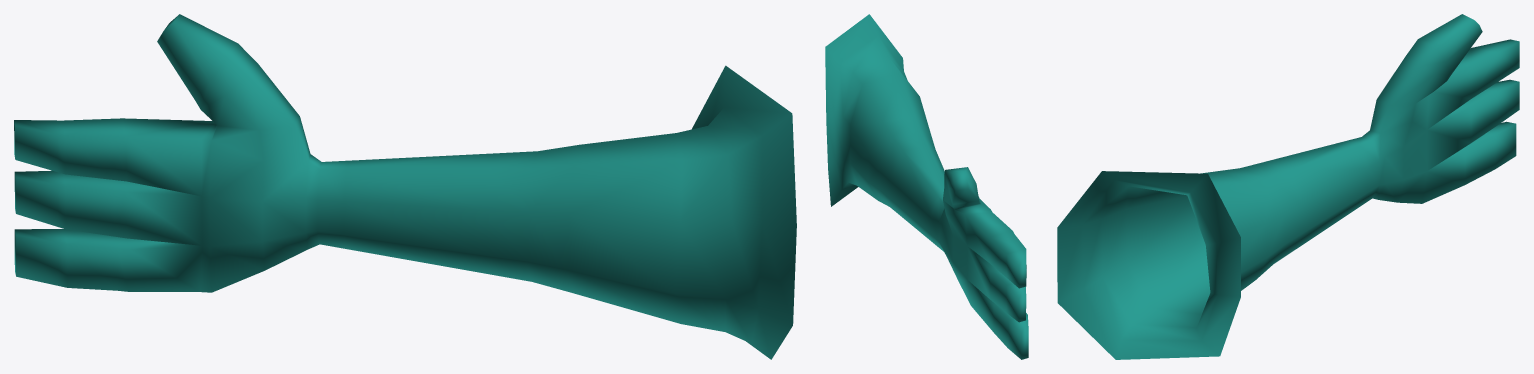
The model's file is PerryManoIzq.obj.
3 views of the same model, side by side, from view 1: azimuth 30°, elevation 25°; view 2: azimuth 150°, elevation 25°; view 3: azimuth 270°, elevation 25° (orthographic). The views are drawn at different scales.
Parts seen in each view (by area): view 1: mmd_edge_scale, 手首.L; view 2: mmd_edge_scale, 手首.L, 親指２.L, 人指３.L, 中指３.L; view 3: mmd_edge_scale, 手首.L.
Part boxes in pixels (left/top/right/bottom): mmd_edge_scale: left=14, top=14, right=796, bottom=359; 手首.L: left=209, top=141, right=308, bottom=292; mmd_edge_scale: left=825, top=14, right=1028, bottom=359; 手首.L: left=941, top=210, right=970, bottom=305; 親指２.L: left=952, top=171, right=968, bottom=190; 人指３.L: left=1019, top=265, right=1026, bottom=288; 中指３.L: left=1019, top=297, right=1026, bottom=322; mmd_edge_scale: left=1057, top=14, right=1519, bottom=359; 手首.L: left=1378, top=95, right=1428, bottom=203.
Size of the model in its own units: 3.01 by 1.47 by 3.01.
